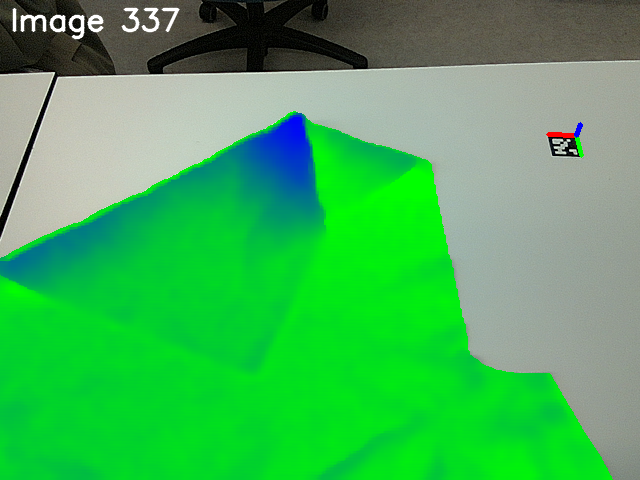V: (214, 317, 283, 384)
